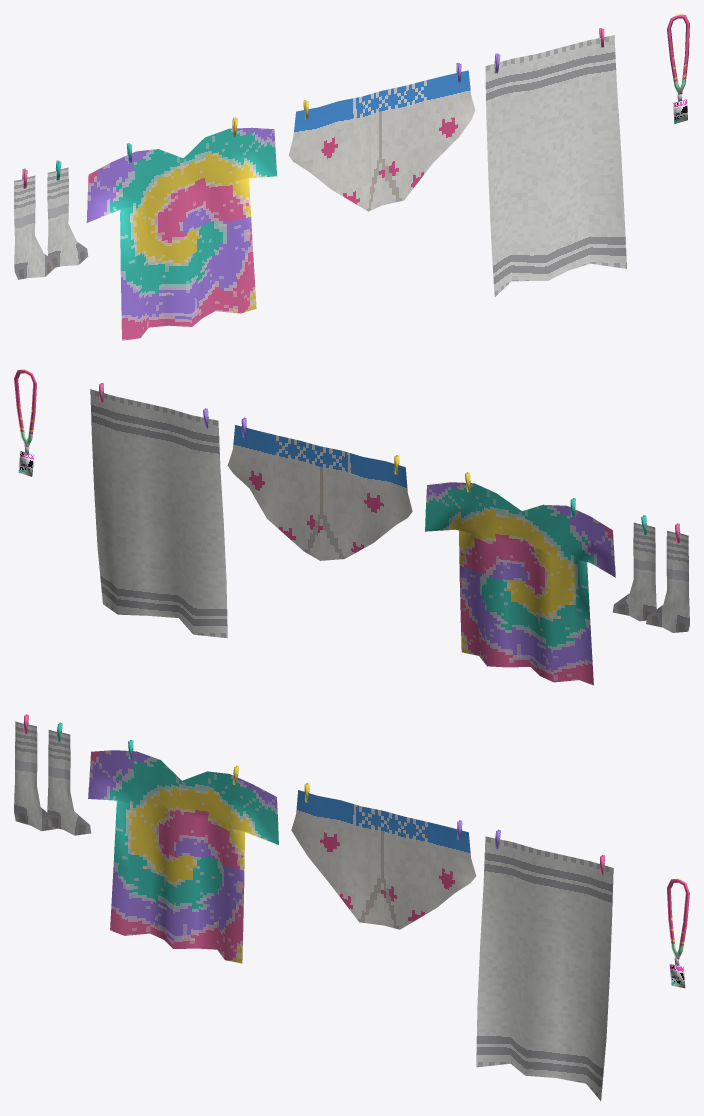
Rendered from s_laundry_a.glb.
3 renders of one model, top to bottom at view 1: azimuth 30°, elevation 25°; view 2: azimuth 150°, elevation 25°; view 3: azimuth 330°, elevation 25°, orthographic.
Parts seen in each view (by area): view 1: s_laundry_a_mesh; view 2: s_laundry_a_mesh; view 3: s_laundry_a_mesh.
Part boxes in pixels (x1,y1,x2,y2): s_laundry_a_mesh: (14, 14, 689, 340); s_laundry_a_mesh: (14, 369, 689, 685); s_laundry_a_mesh: (14, 714, 689, 1100).
Size of the model in its own units: 2.84 by 0.9345 by 0.1064.
Materials: 3 (3 with a texture image).
